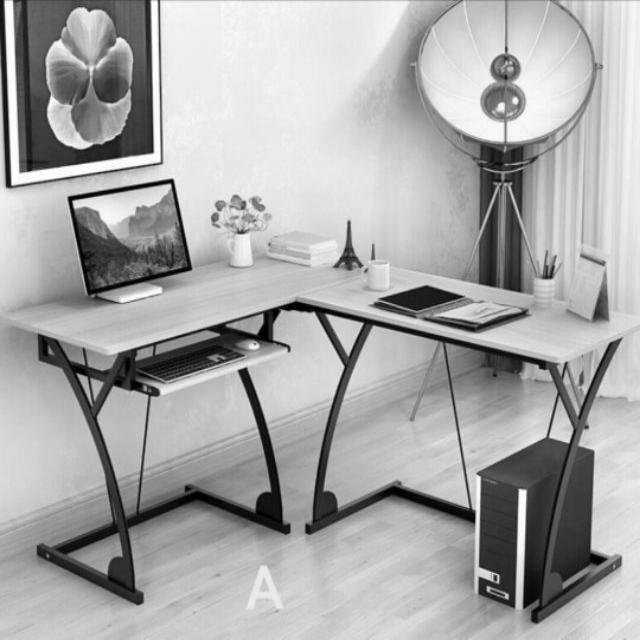table: (17, 154, 609, 448)
